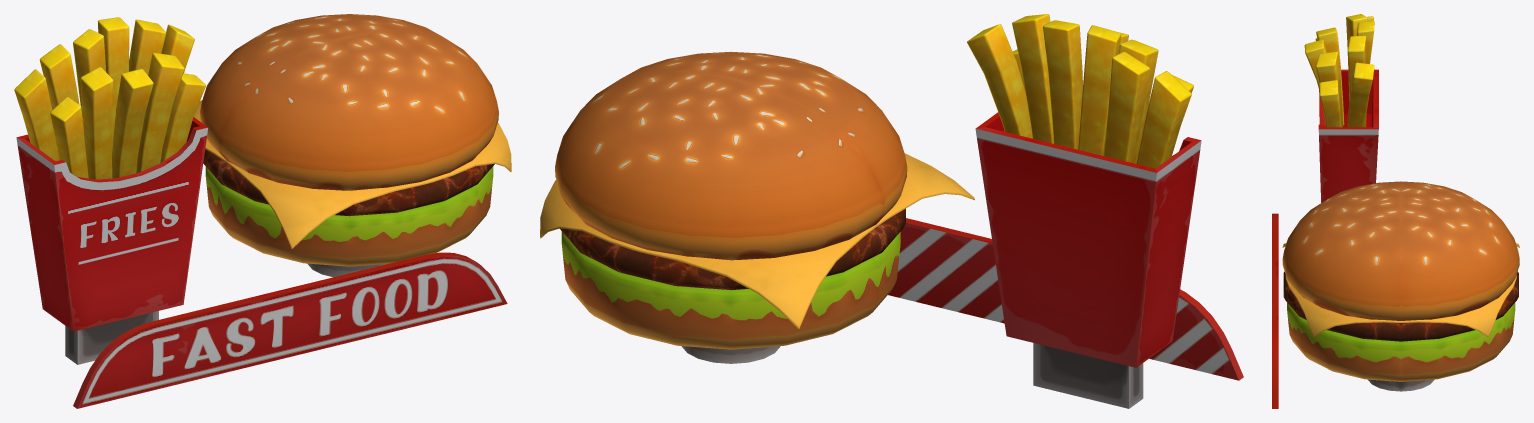
The model's file is SignFastFood01_1.FBX.
The picture shows the model from 3 angles, left to right: view 1: azimuth 30°, elevation 25°; view 2: azimuth 150°, elevation 25°; view 3: azimuth 270°, elevation 25°; orthographic projection. The views are drawn at different scales.
Visible parts, largest first — view 1: SignFastFood01_1; view 2: SignFastFood01_1; view 3: SignFastFood01_1.
Boxes of the visible parts, x1,y1,x2,y2 form: SignFastFood01_1: [14, 14, 511, 408]; SignFastFood01_1: [540, 14, 1243, 408]; SignFastFood01_1: [1272, 14, 1519, 408].
Size of what is drawn, in the model's own units: 10.2 by 6.41 by 5.65.
